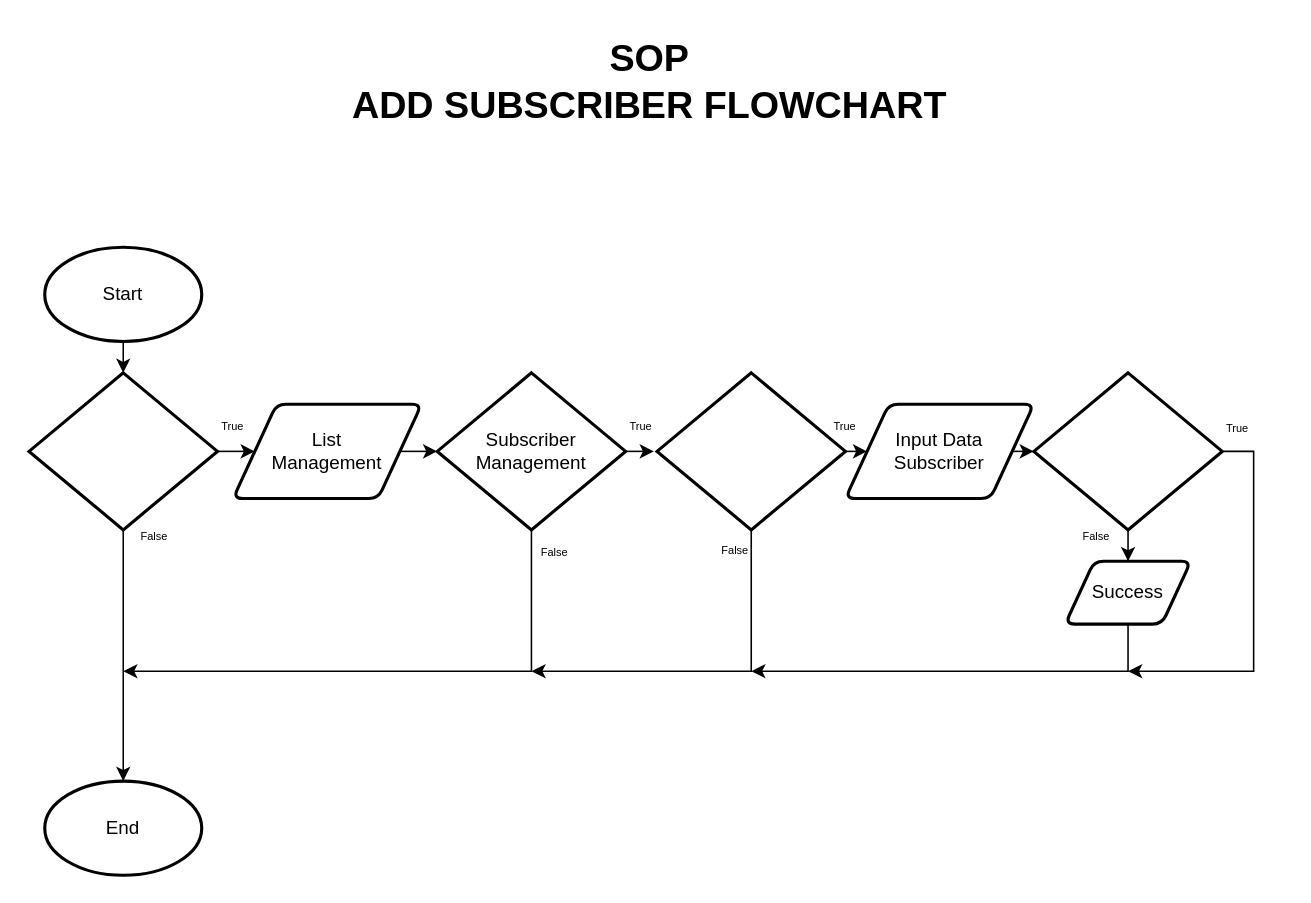
The diagram is 1311 pixels wide and 903 high, and some of its shapes have lost their labels. The shapes that lost their labels are listed below. From the top down, each one's centre as x and y in pixels, then its label:
(122,451): Tab Subscriber Management
(750,451): Add
(1127,451): Submit
